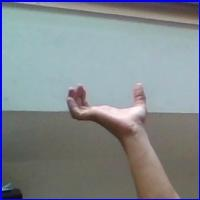space: (62, 78, 156, 140)
